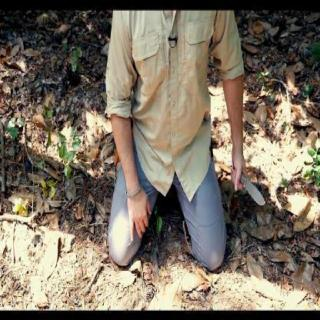knife: (229, 164, 270, 213)
